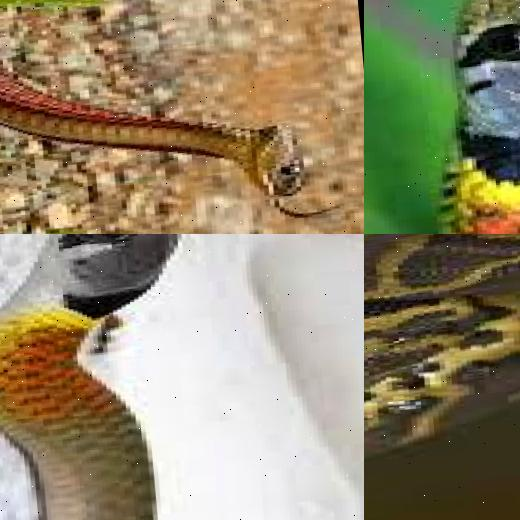2: (0, 0, 364, 234), (0, 234, 289, 520), (393, 0, 520, 234)
snake: (364, 234, 520, 520)
